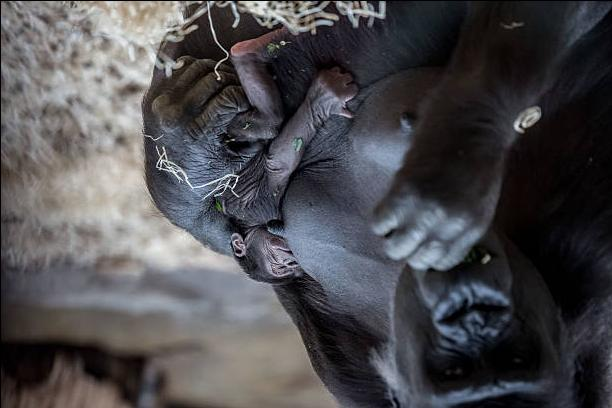gorille_Autres: (281, 156, 606, 404)
